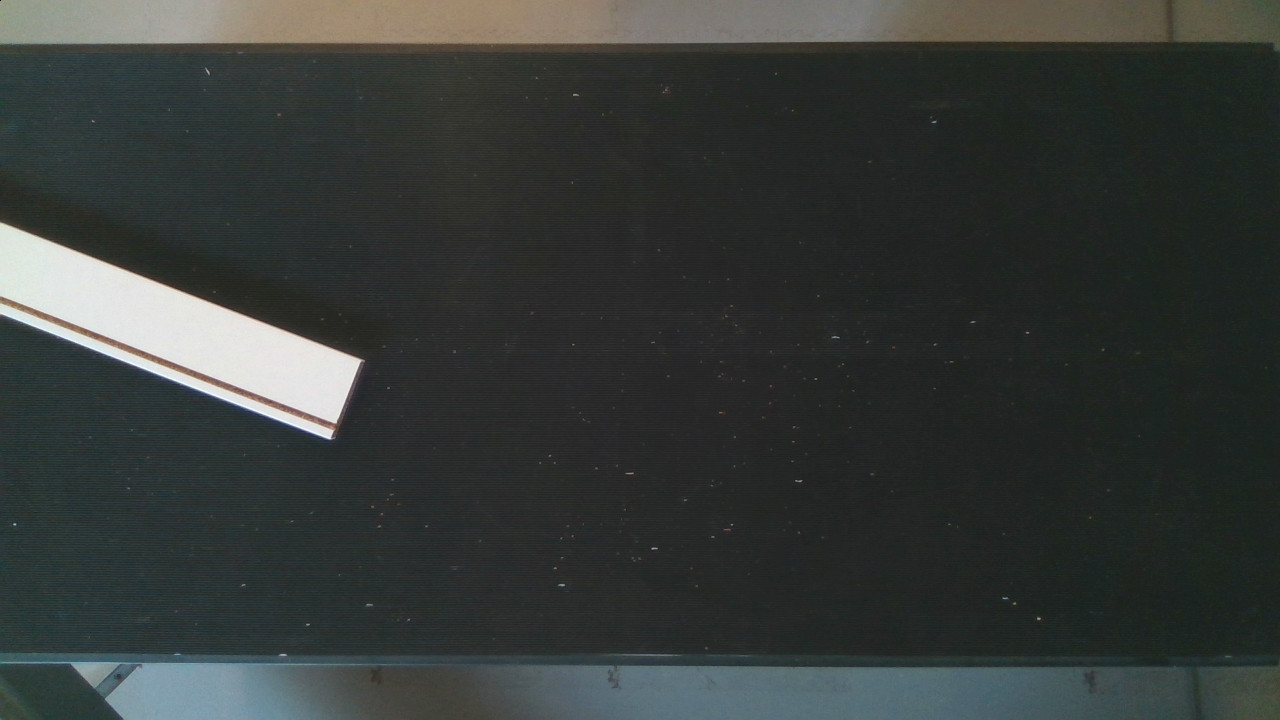part1: (5, 203, 385, 453)
